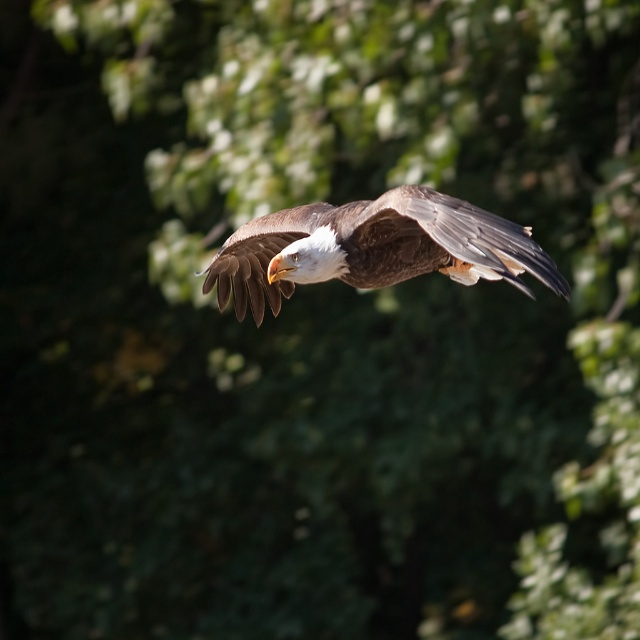Eagle: (188, 176, 566, 336)
